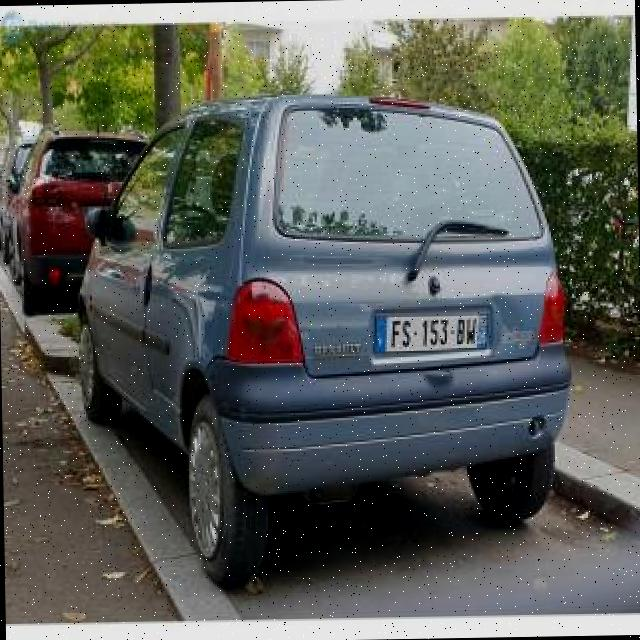EU: (372, 316, 492, 354)
France: (372, 320, 391, 354)
